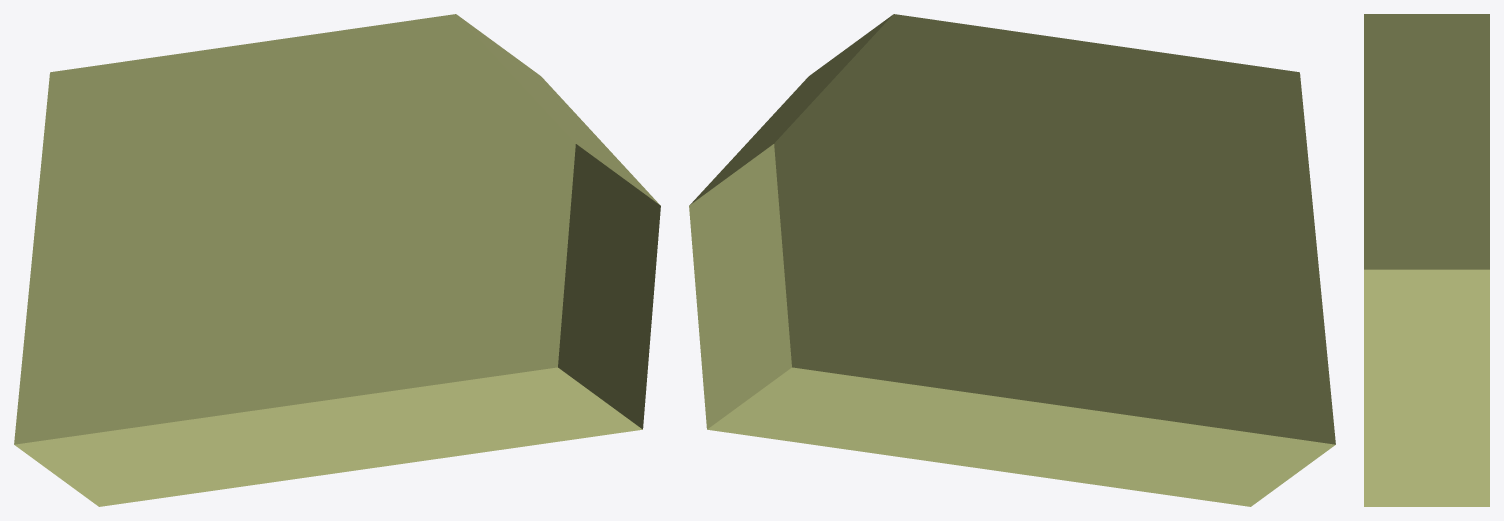
The picture shows the model from 3 angles, left to right: view 1: azimuth 30°, elevation 25°; view 2: azimuth 150°, elevation 25°; view 3: azimuth 270°, elevation 25°; orthographic projection. The views are drawn at different scales.
Parts seen in each view (by area): view 1: 0_3_2_2_3_1_1_1_3; view 2: 0_3_2_2_3_1_1_1_3; view 3: 0_3_2_2_3_1_1_1_3.
Part boxes in pixels (x1=…): 0_3_2_2_3_1_1_1_3: x1=14, y1=14, x2=660, y2=506; 0_3_2_2_3_1_1_1_3: x1=689, y1=14, x2=1335, y2=506; 0_3_2_2_3_1_1_1_3: x1=1364, y1=14, x2=1489, y2=506.
Size of the model in its own units: 22.87 by 16.3 by 6.
